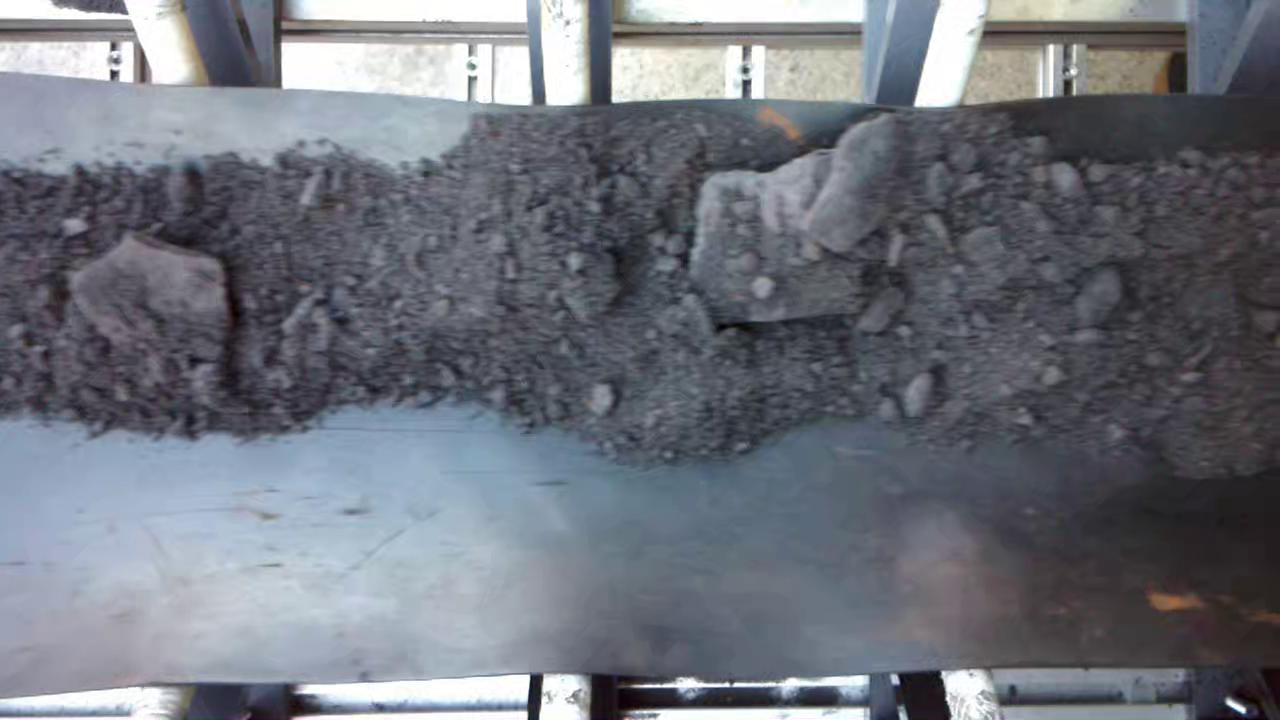conveyor: (0, 108, 1278, 651)
